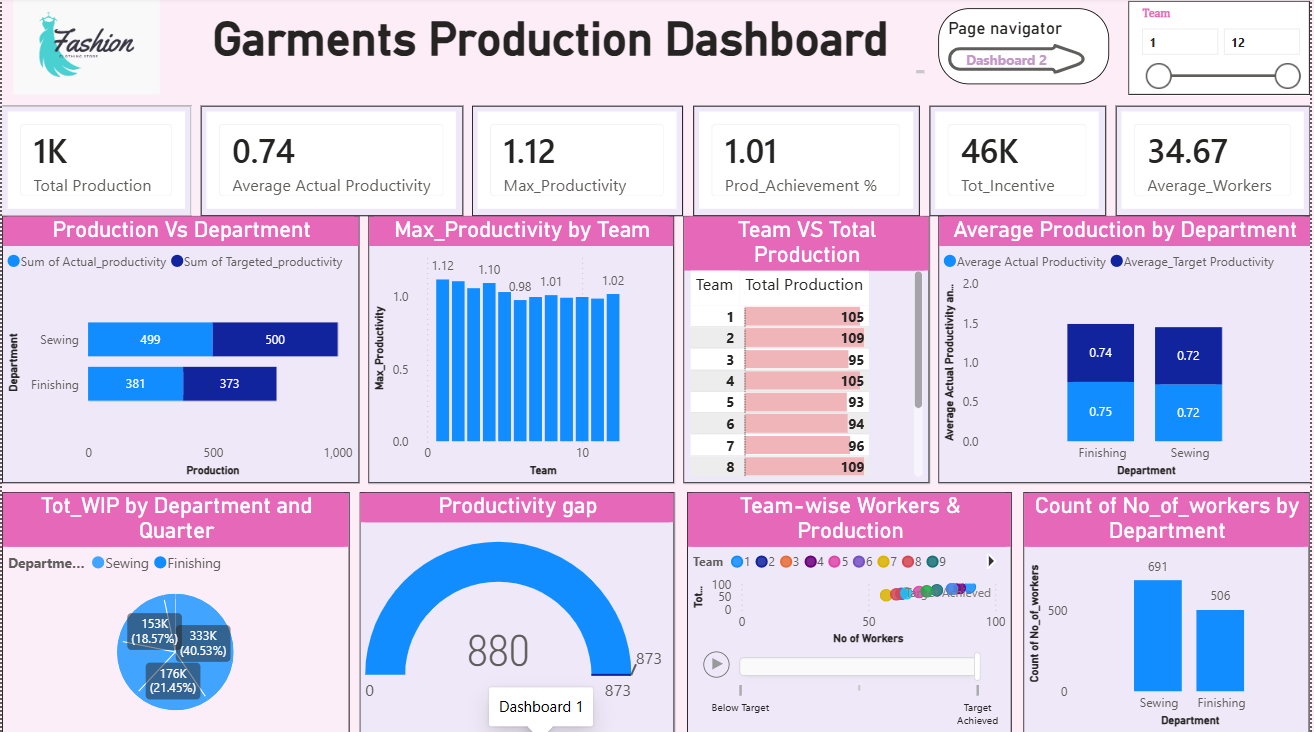

This screenshot's page, from the dashboard's own definition file:
{"tool":"powerbi","page":{"name":"Dashboard 1","canvas":[1280,720],"ordinal":3},"visuals":[{"type":"textbox","title":"Garments Production Dashboard","box":[166.3,14.7,741,64.8],"z":0},{"type":"image","box":[0,0,166.3,95.4],"z":1000},{"type":"cardVisual","fields":{"Data":["Measures table.Total Production"]},"box":[0,106.4,185.9,107.6],"z":2000},{"type":"cardVisual","fields":{"Data":["Measures table.Average Productivity"]},"box":[194.4,106.4,256.8,107.6],"z":3000},{"type":"cardVisual","fields":{"Data":["Measures table.Max_Prod"]},"box":[459.8,106.4,206.7,107.6],"z":4000},{"type":"cardVisual","fields":{"Data":["Measures table.Prod_Achievement %"]},"box":[676.2,106.4,221.3,107.6],"z":5000},{"type":"cardVisual","fields":{"Data":["Measures table.Tot_Incentive"]},"box":[907.3,106.4,172.4,107.6],"z":6000},{"type":"cardVisual","fields":{"Data":["Measures table.Average_Workers"]},"box":[1089.5,106.4,190.8,107.6],"z":7000},{"type":"barChart","title":"Production Vs Department","fields":{"Category":["Garments_Prod_DB.Department"],"Y":["Sum(Garments_Prod_DB.Actual_productivity)","Sum(Garments_Prod_DB.Targeted_productivity)"]},"box":[0,214,349.7,261.7],"z":8000},{"type":"columnChart","fields":{"Category":["Garments_Prod_DB.Team"],"Y":["Measures table.Max_Productivity"]},"box":[358.3,214,299.6,261.7],"z":9000},{"type":"tableEx","title":"Team VS Total Production","fields":{"Values":["Garments_Prod_DB.Team","Measures table.Total Production"]},"box":[666.4,214,240.9,261.7],"z":10000},{"type":"columnChart","title":"Average Production by Department","fields":{"Category":["Garments_Prod_DB.Department"],"Y":["Measures table.Average Actual Productivity","Measures table.Average_Target Productivity"]},"box":[915.9,214,364.4,261.7],"z":11000},{"type":"pieChart","fields":{"Category":["Garments_Prod_DB.Department"],"Y":["Measures table.Tot_WIP"],"Series":["Garments_Prod_DB.Quarter"]},"box":[0,484.2,339.9,236],"z":12000},{"type":"gauge","title":"Productivity gap","fields":{"Y":["Sum(Garments_Prod_DB.Actual_productivity)"],"TargetValue":["Sum(Garments_Prod_DB.Targeted_productivity)"],"MaxValue":["Sum(Garments_Prod_DB.Targeted_productivity)"]},"box":[349.7,484.2,308.2,236],"z":13000},{"type":"scatterChart","title":"Team-wise Workers & Production","fields":{"X":["CountNonNull(Garments_Prod_DB.No_of_workers)"],"Y":["Measures table.Total Production"],"Series":["Garments_Prod_DB.Team"],"Play":["Garments_Prod_DB.Productivity status"]},"box":[670.1,484.2,317.9,236],"z":14000},{"type":"columnChart","fields":{"Y":["CountNonNull(Garments_Prod_DB.No_of_workers)"],"Category":["Garments_Prod_DB.Department"]},"box":[999.1,484.2,280,236],"z":15000},{"type":"slicer","fields":{"Values":["Garments_Prod_DB.Team"]},"box":[1101.8,3.7,177.3,91.7],"z":16000},{"type":"actionButton","title":"Page navigator","box":[915.9,11,167.5,74.6],"z":17000}]}

Visuals, with their boxes in screenshot pixels (x1, y1, x2, y2), scaled from the page's 1280x720 canvas onto the 1314x732 screenshot:
"Garments Production Dashboard" textbox: [left=171, top=15, right=931, bottom=81]
image: [left=0, top=0, right=171, bottom=97]
cardVisual - Measures table.Total Production: [left=0, top=108, right=191, bottom=218]
cardVisual - Measures table.Average Productivity: [left=200, top=108, right=463, bottom=218]
cardVisual - Measures table.Max_Prod: [left=472, top=108, right=684, bottom=218]
cardVisual - Measures table.Prod_Achievement %: [left=694, top=108, right=921, bottom=218]
cardVisual - Measures table.Tot_Incentive: [left=931, top=108, right=1108, bottom=218]
cardVisual - Measures table.Average_Workers: [left=1118, top=108, right=1313, bottom=218]
"Production Vs Department" barChart: [left=0, top=218, right=359, bottom=484]
columnChart - Garments_Prod_DB.Team x Measures table.Max_Productivity: [left=368, top=218, right=675, bottom=484]
"Team VS Total Production" tableEx: [left=684, top=218, right=931, bottom=484]
"Average Production by Department" columnChart: [left=940, top=218, right=1313, bottom=484]
pieChart - Garments_Prod_DB.Department x Measures table.Tot_WIP: [left=0, top=492, right=349, bottom=731]
"Productivity gap" gauge: [left=359, top=492, right=675, bottom=731]
"Team-wise Workers & Production" scatterChart: [left=688, top=492, right=1014, bottom=731]
columnChart - CountNonNull(Garments_Prod_DB.No_of_workers) x Garments_Prod_DB.Department: [left=1026, top=492, right=1313, bottom=731]
slicer - Garments_Prod_DB.Team: [left=1131, top=4, right=1313, bottom=97]
"Page navigator" actionButton: [left=940, top=11, right=1112, bottom=87]
